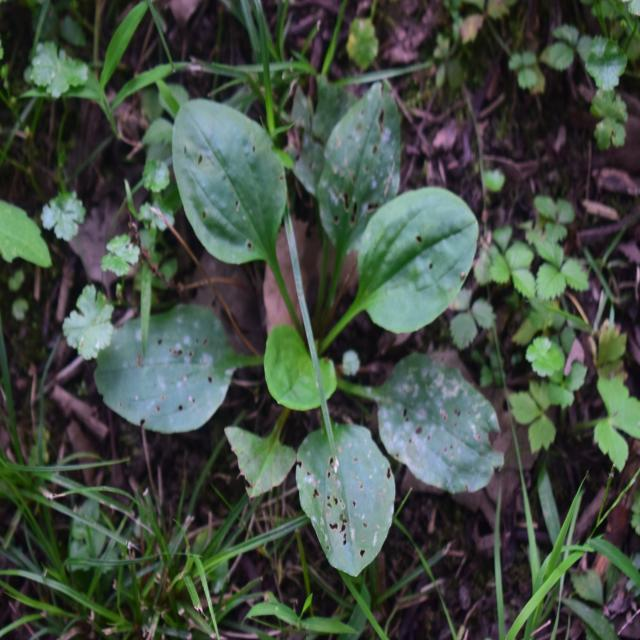plantain: (127, 78, 497, 534)
